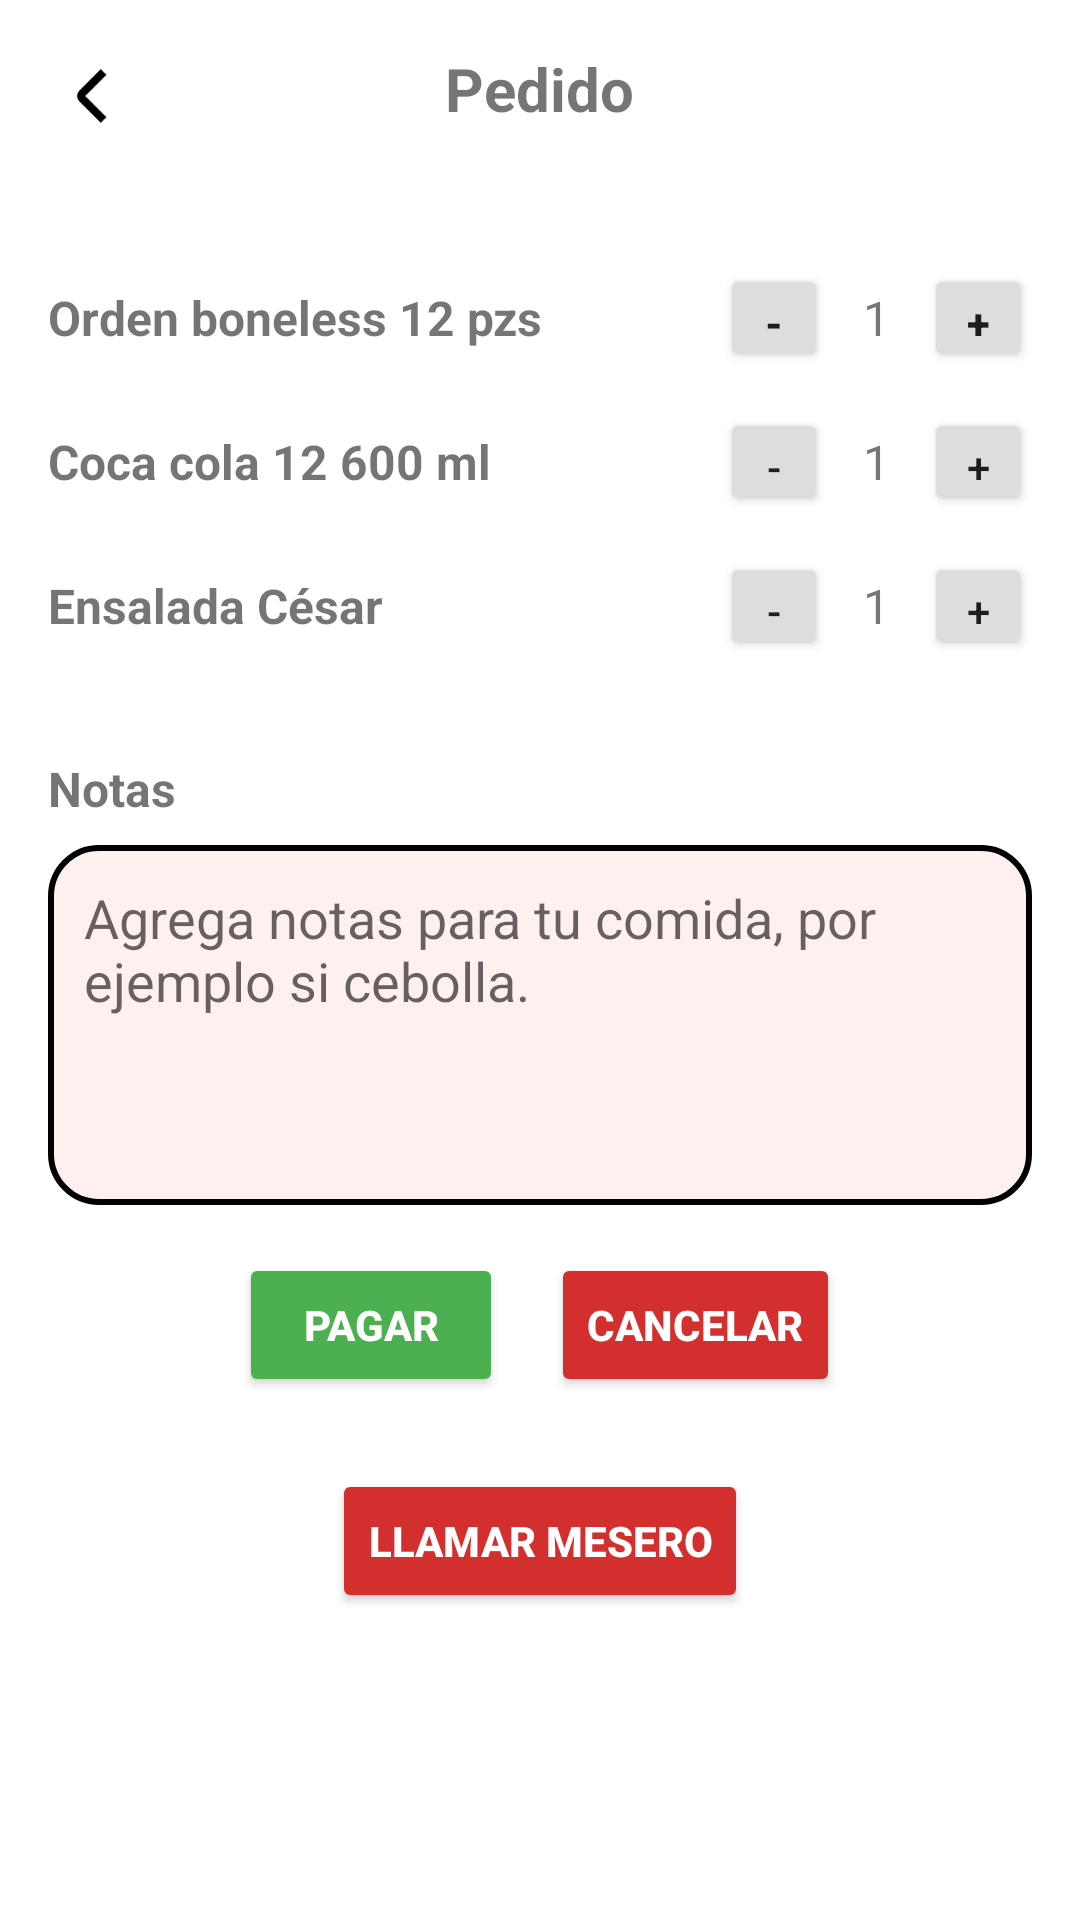

Icon click points for this 1080px x 1920px phone screenshot, format point (x, y):
Volver: point (92, 96)
